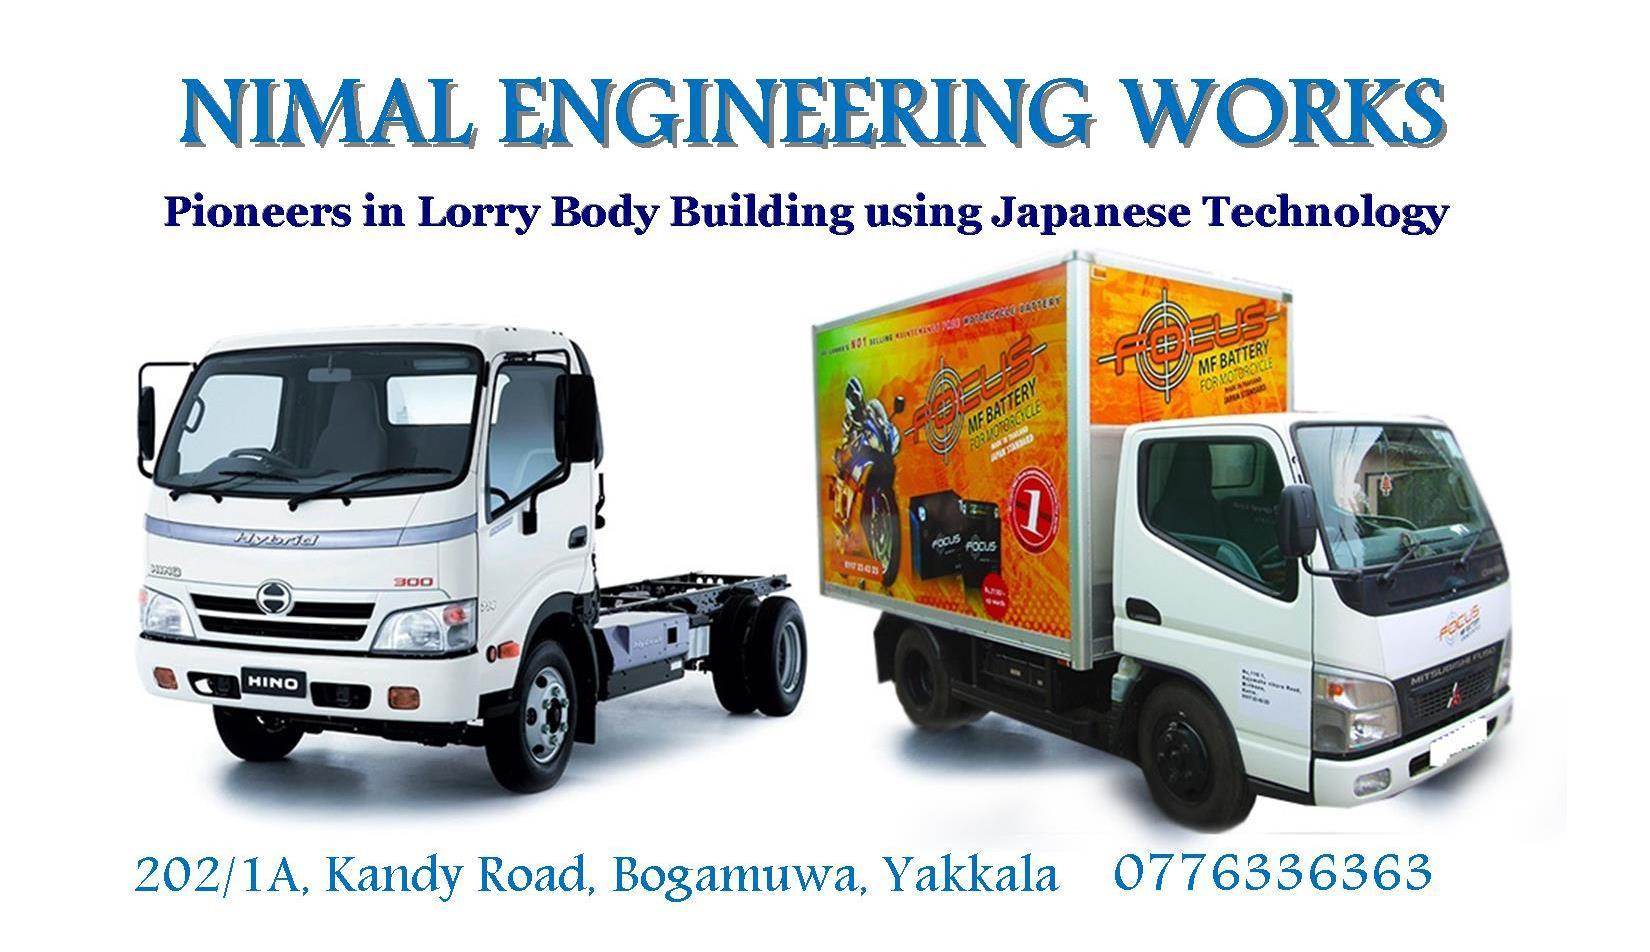truck: (811, 250, 1514, 833), (134, 326, 807, 793)
